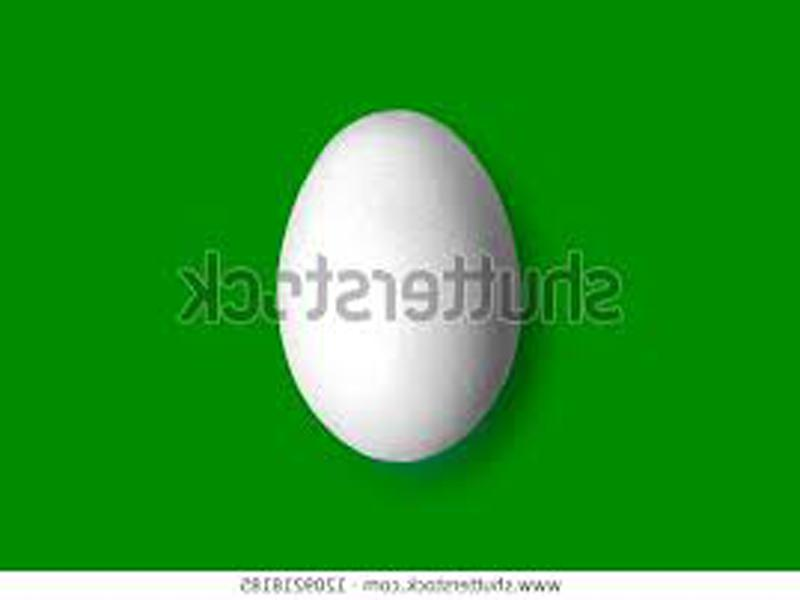Eggs: (279, 109, 522, 459)
